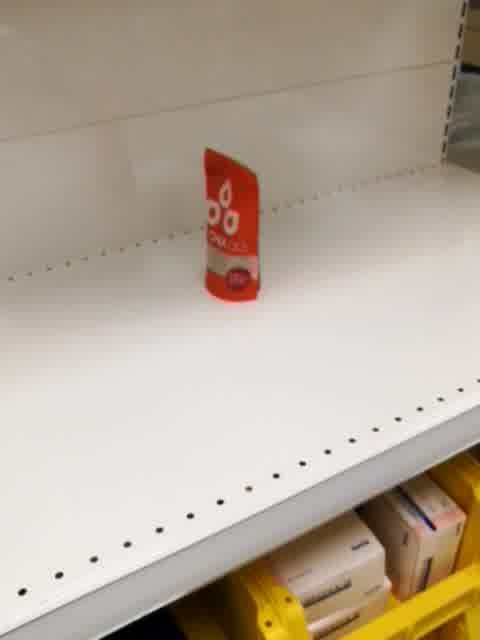whitechia: (197, 143, 266, 309)
